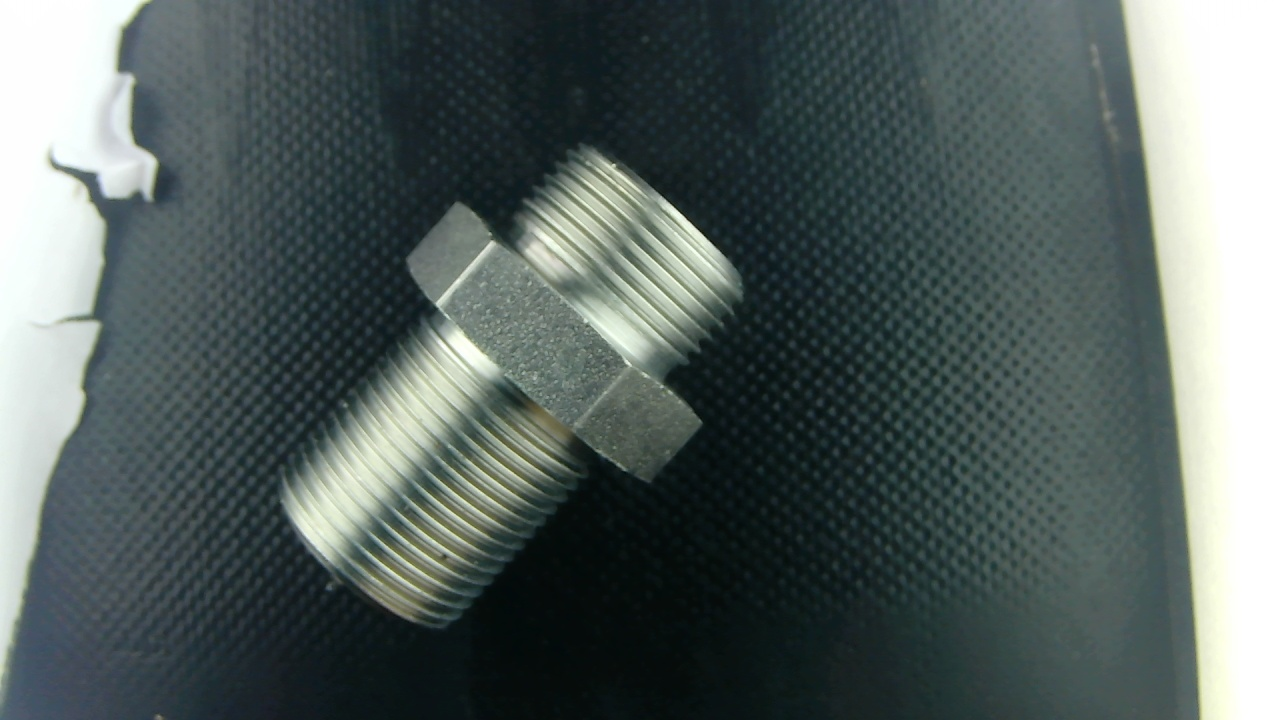okay_adapter: (282, 146, 740, 626)
